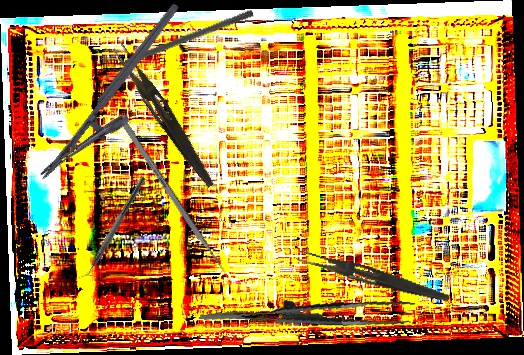Chopper: (75, 172, 147, 284)
Dressing Forceps: (107, 42, 222, 190), (295, 249, 452, 304)
Needle Holder: (37, 2, 204, 199)
Pusher: (116, 114, 233, 283), (97, 7, 255, 76)
Tissue Forceps: (199, 277, 415, 345)
